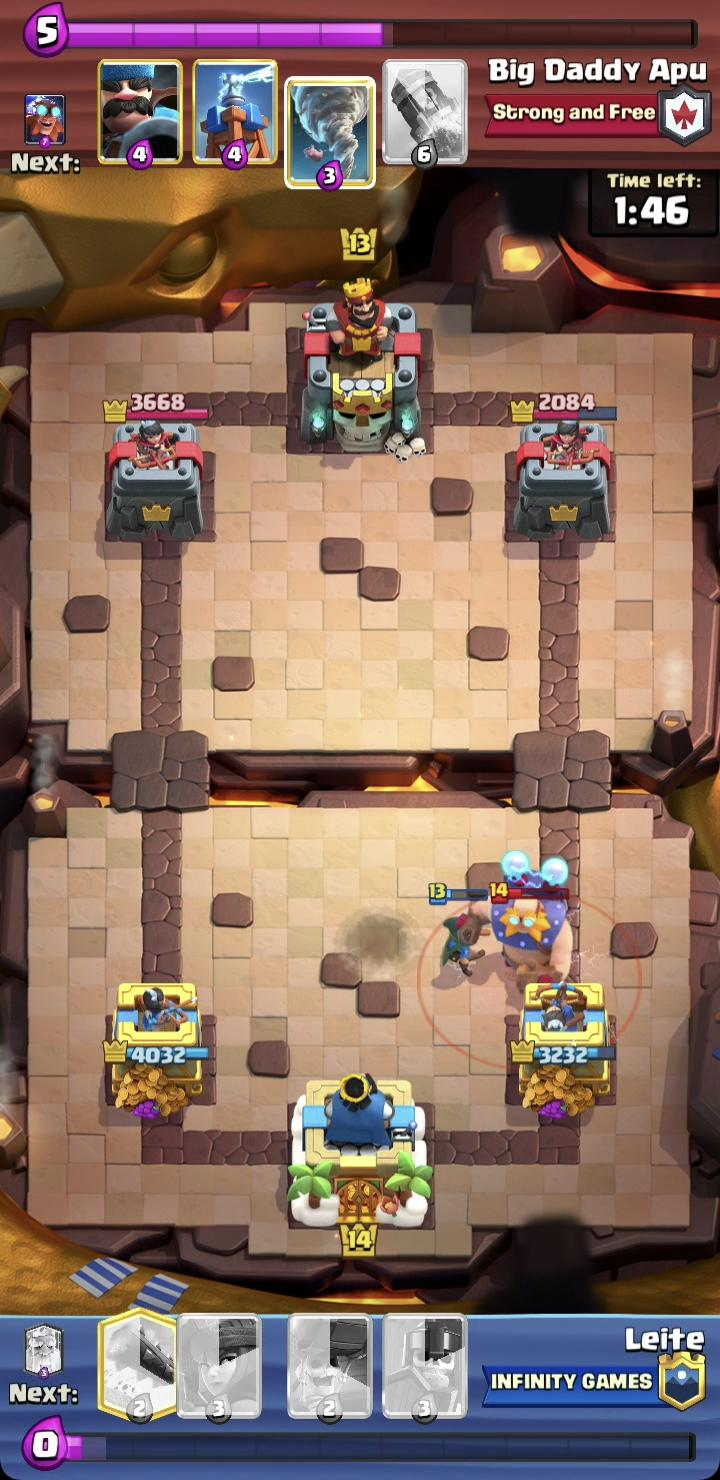ally_bandit: (426, 881, 489, 976)
enemy_electrogiant: (457, 850, 573, 991)
